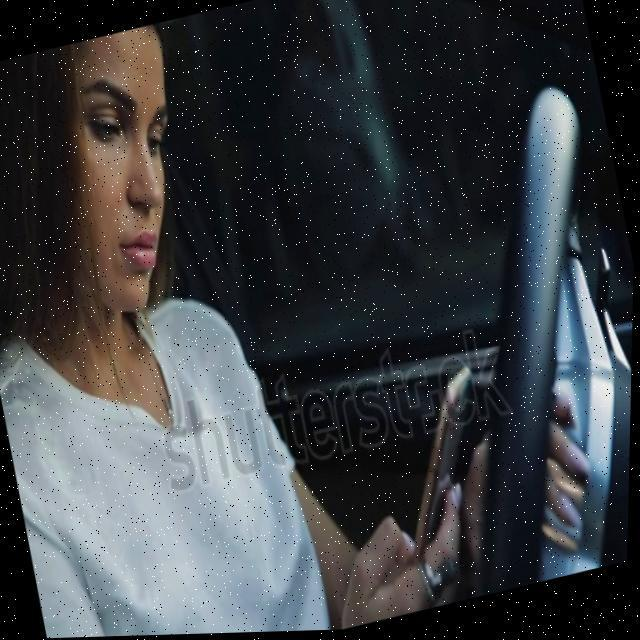PhoneCall: (381, 364, 510, 566)
